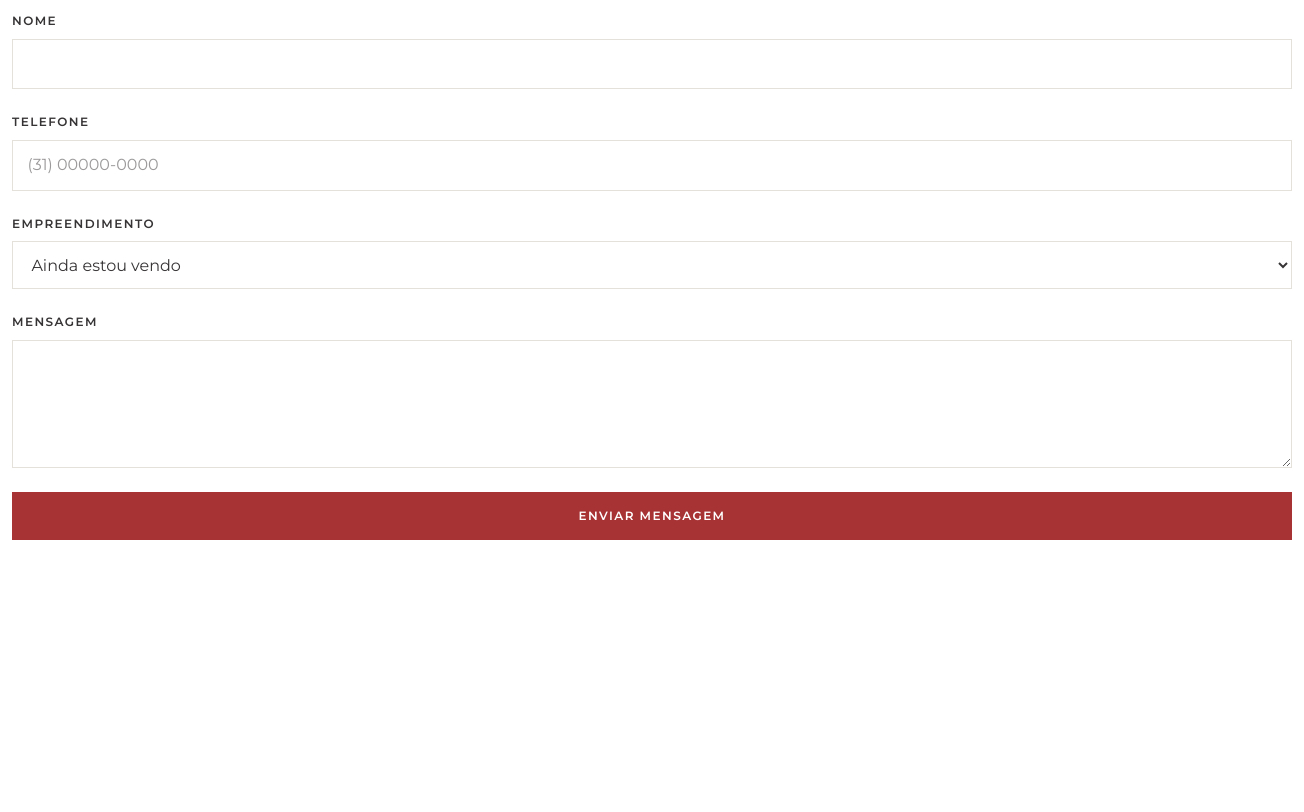
Test case: LeadForm › stays on the form when the destination cannot be reached
Type "Maria Silva" into the field labelled "Nome" at (652, 64), box [12,39,1292,89]
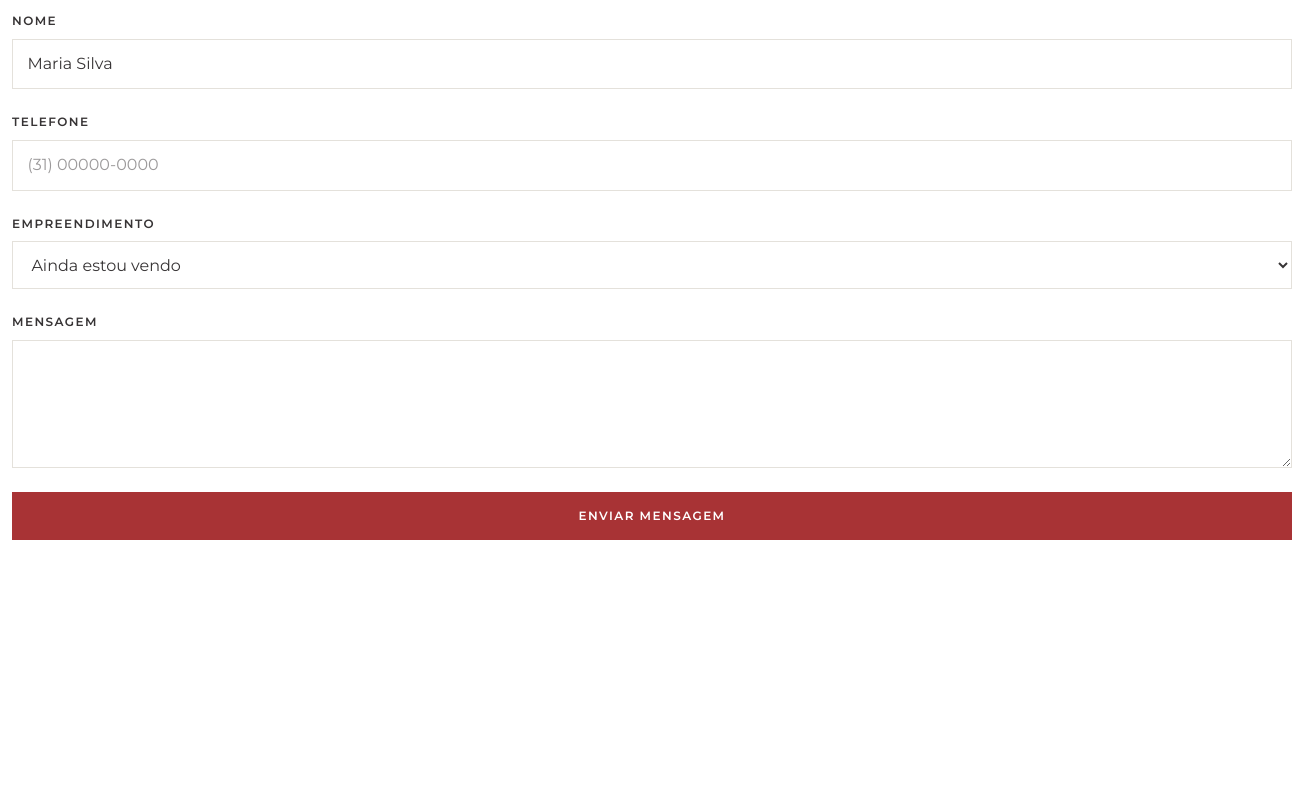
Type "31999990000" into the field labelled "Telefone" at (652, 165), box [12,140,1292,191]
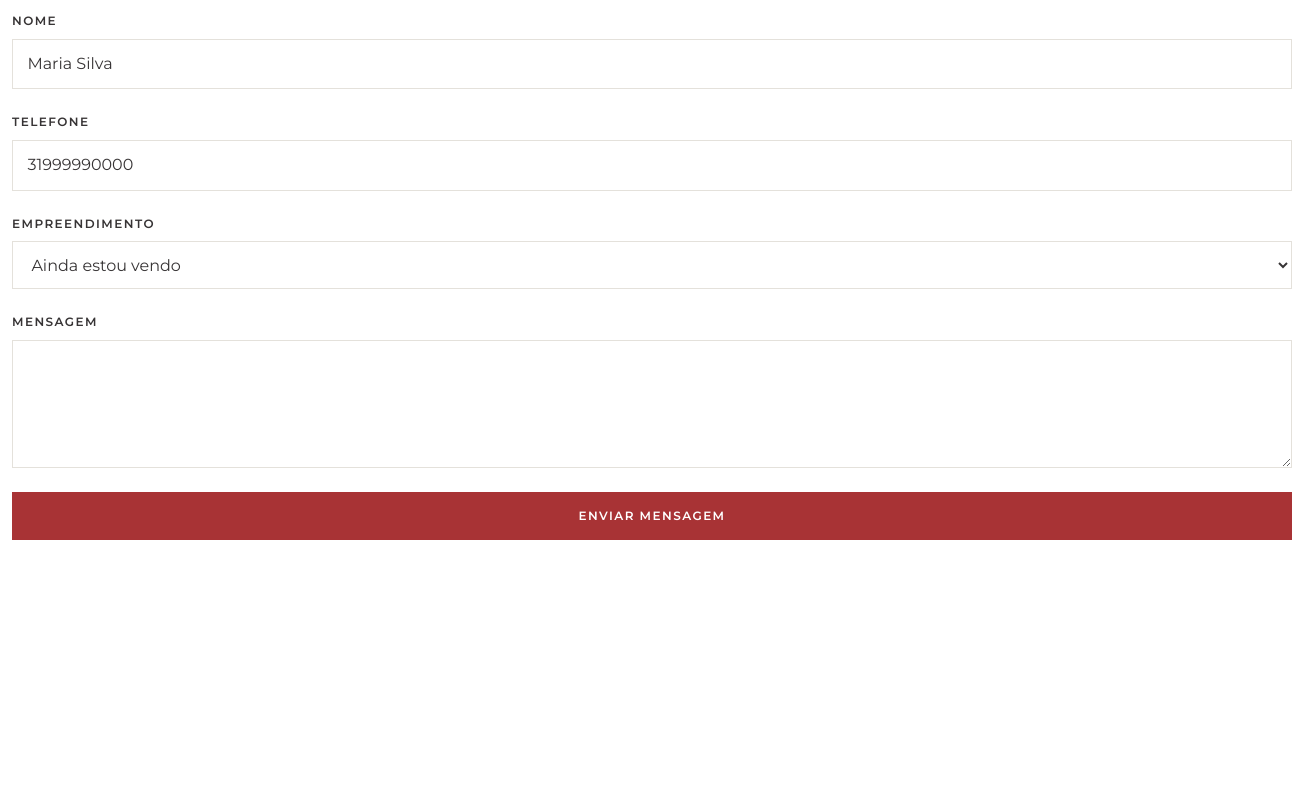
Select "Recanto do Horizonte" in the dropdown labelled "Empreendimento" at (652, 265), box [12,241,1292,289]
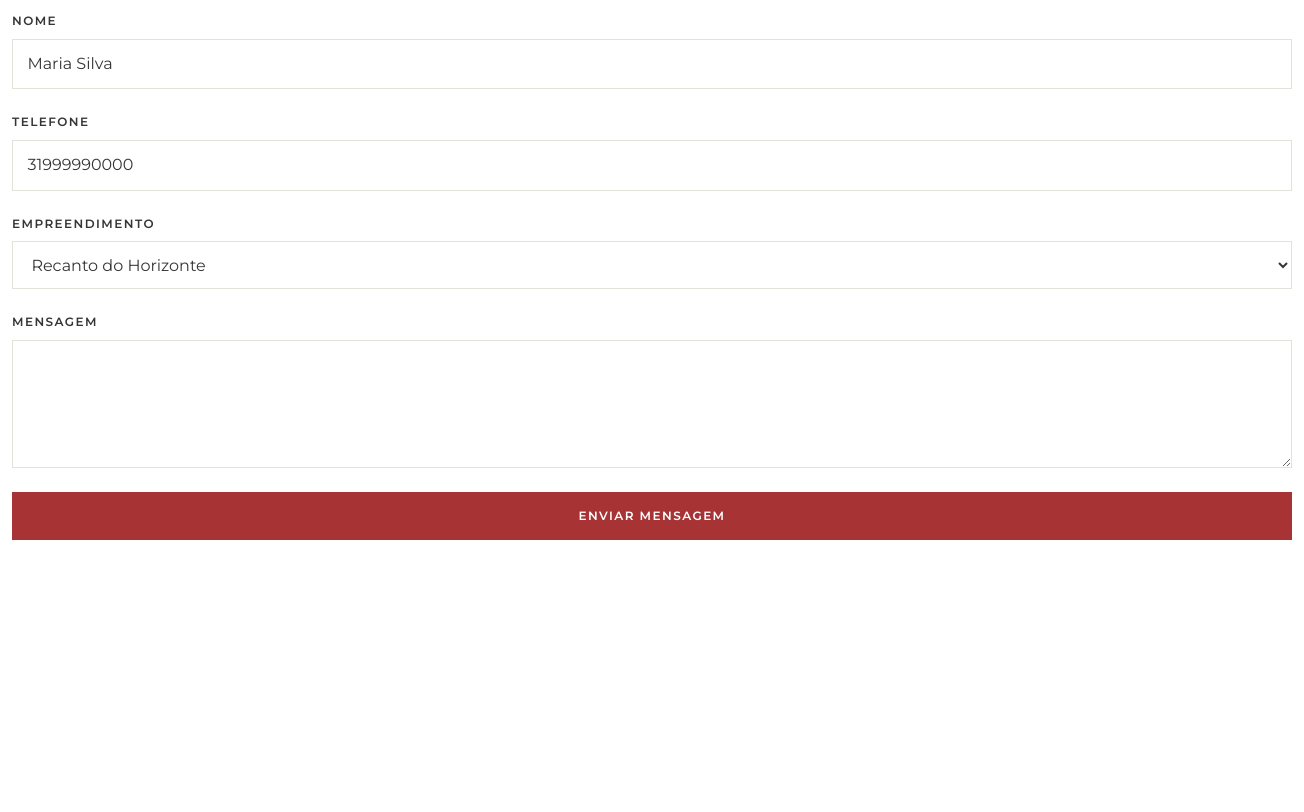
Type "Quero saber das unidades no Canaã." into the text box labelled "Mensagem" at (652, 404), box [12,340,1292,468]
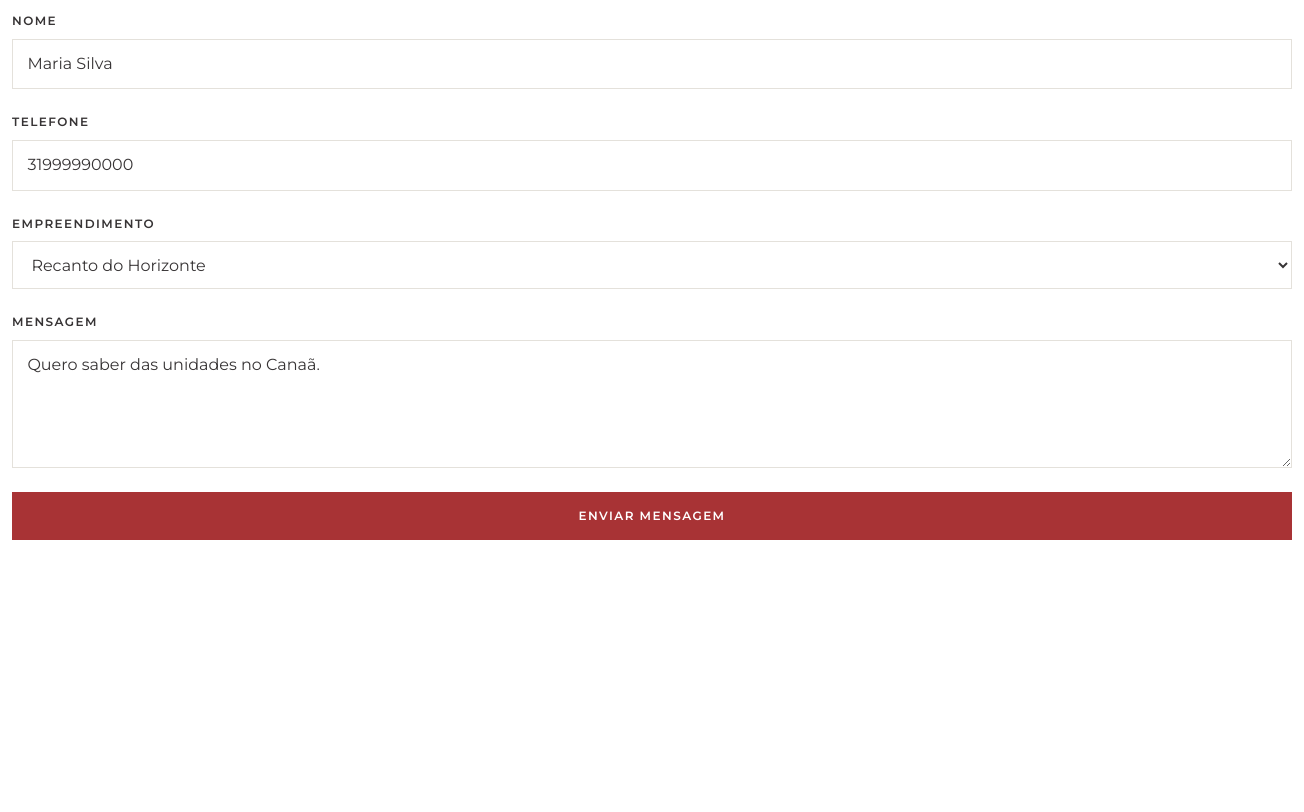
Click the button "Enviar mensagem" at (652, 516), box [12,492,1292,540]
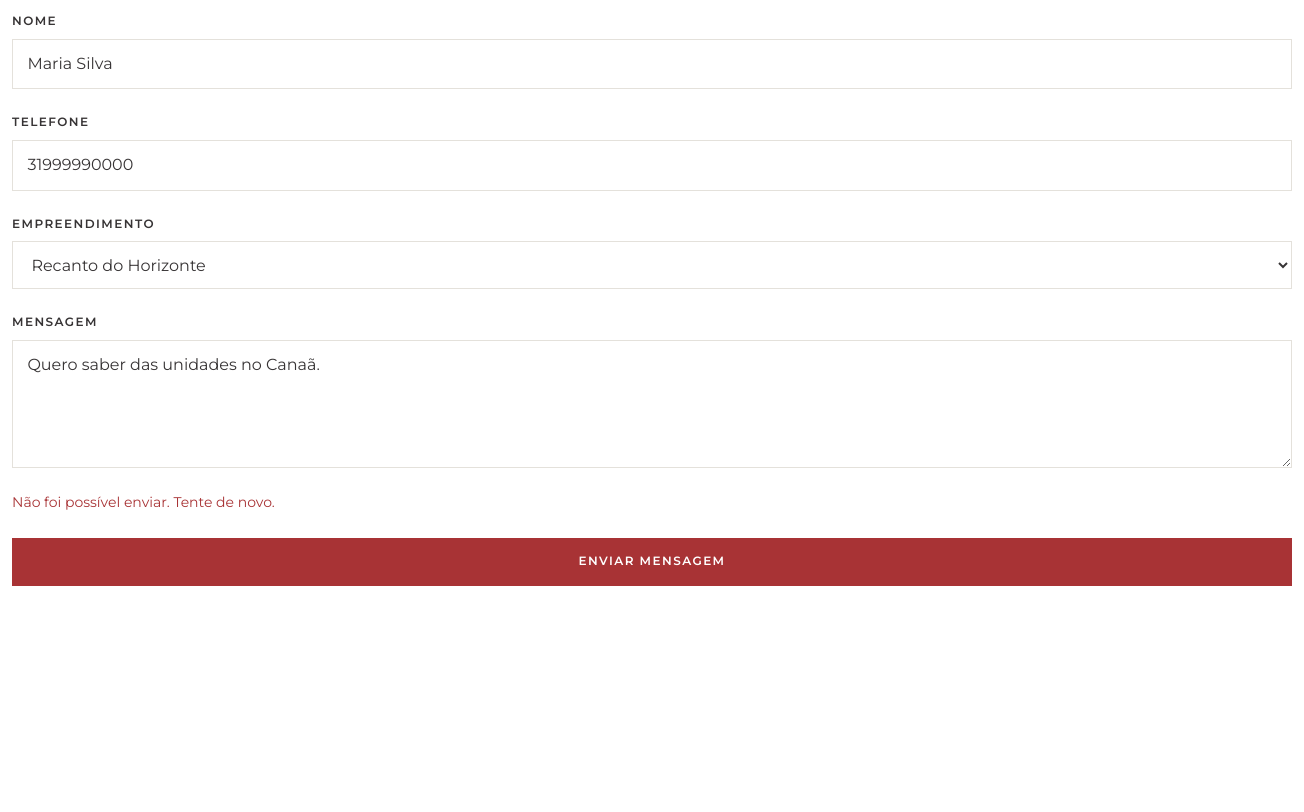
Check: the button "Enviar mensagem" is shown, box [12,538,1292,586]
Check: the message "Não foi possível enviar. Tente de novo." is shown, box [12,493,275,511]
